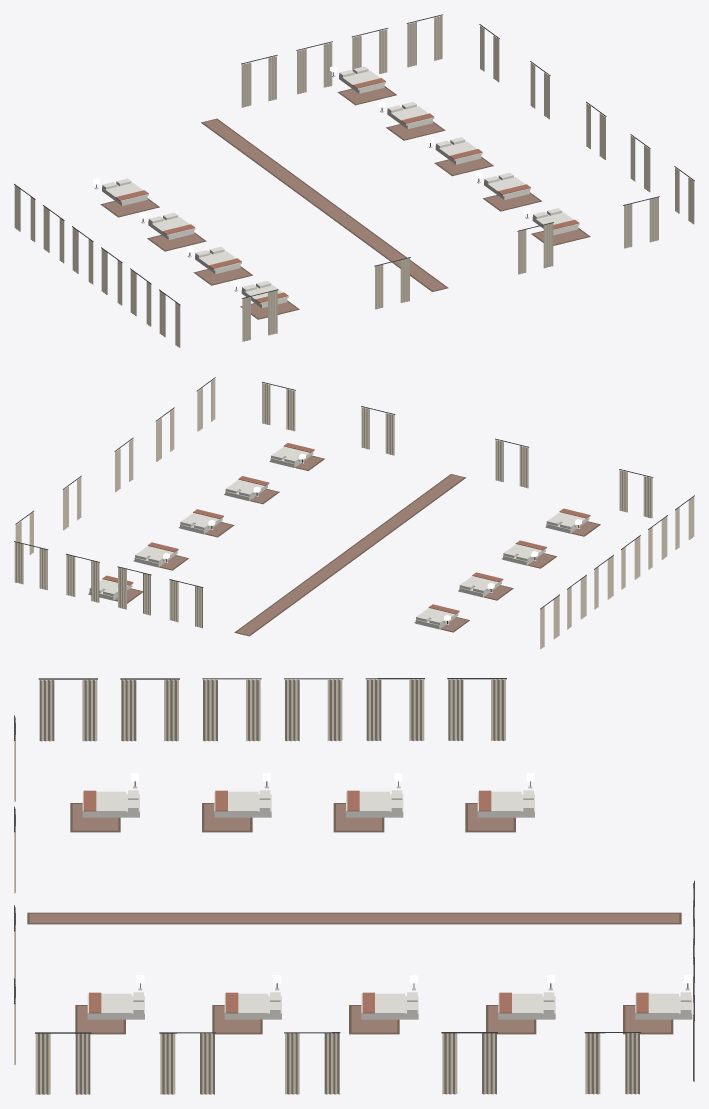
File: fine-s2.glb
3 views of the same model, one above another, from view 1: azimuth 30°, elevation 25°; view 2: azimuth 150°, elevation 25°; view 3: azimuth 270°, elevation 25° (orthographic). The views are drawn at different scales.
Visible parts, largest first — view 1: soft-s2; view 2: soft-s2; view 3: soft-s2.
Boxes of the visible parts, x1,y1,x2,y2 form: soft-s2: (14,14,694,347); soft-s2: (14,377,694,649); soft-s2: (14,678,694,1094).
Bounding box in the file's own units: 28.27 × 2.35 × 22.94.
